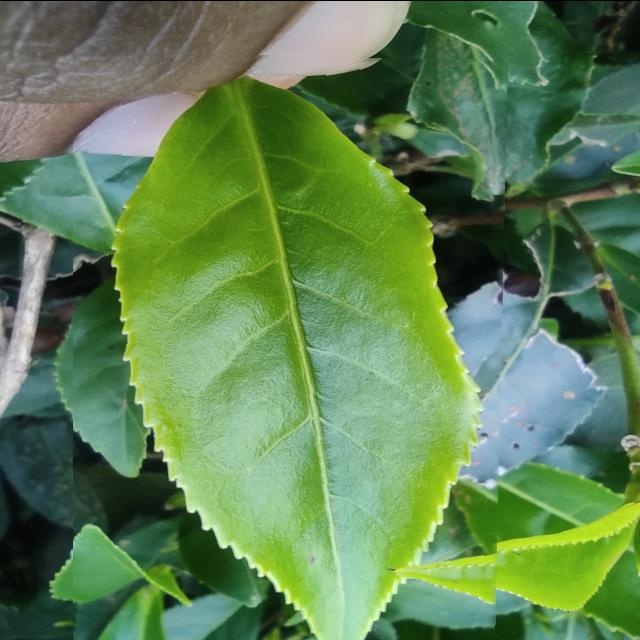Category C(4-7 days): (73, 48, 508, 640)
